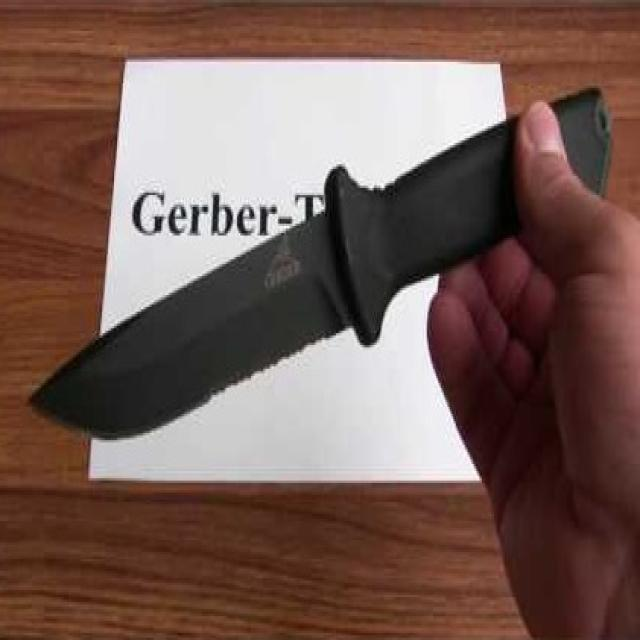knife: (26, 74, 620, 458)
